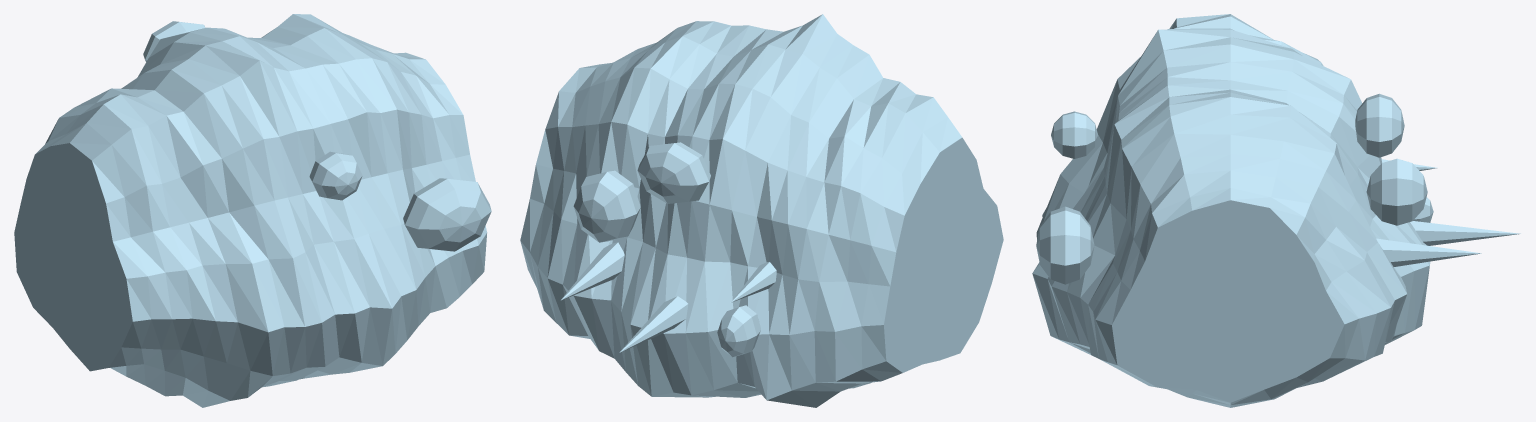
The model's file is ice_block_small.obj.
3 renders of one model, left to right at view 1: azimuth 30°, elevation 25°; view 2: azimuth 150°, elevation 25°; view 3: azimuth 270°, elevation 25°, orthographic. The views are drawn at different scales.
Visible parts, largest first — view 1: ice_block_small; view 2: ice_block_small; view 3: ice_block_small.
Part boxes in pixels (<box>): ice_block_small: <box>14,14,491,407</box>; ice_block_small: <box>520,14,1003,407</box>; ice_block_small: <box>1032,14,1520,407</box>.
Size of the model in its own units: 0.5 by 0.4665 by 0.6108.
